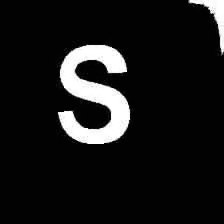LTR_S: (49, 38, 133, 147)
